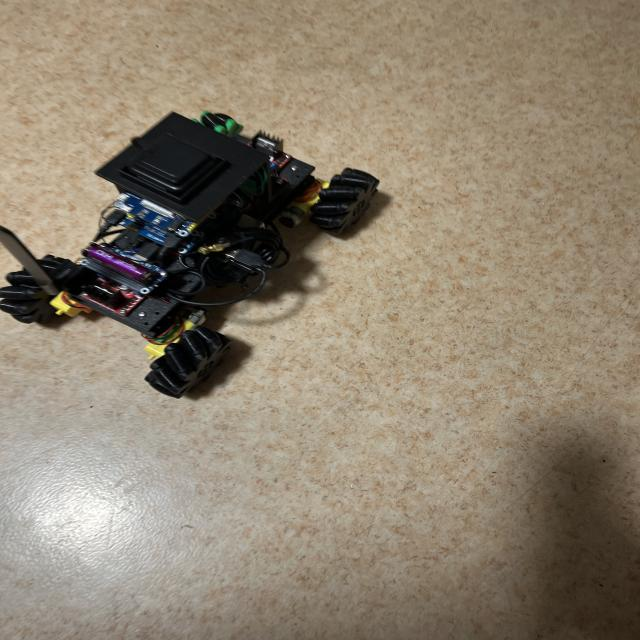robot: (0, 112, 379, 398)
